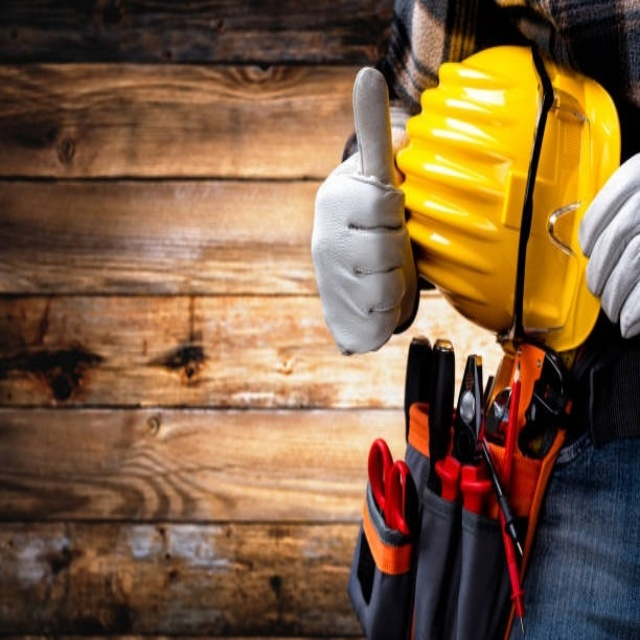Guantes: (311, 64, 421, 350), (577, 154, 638, 345)
